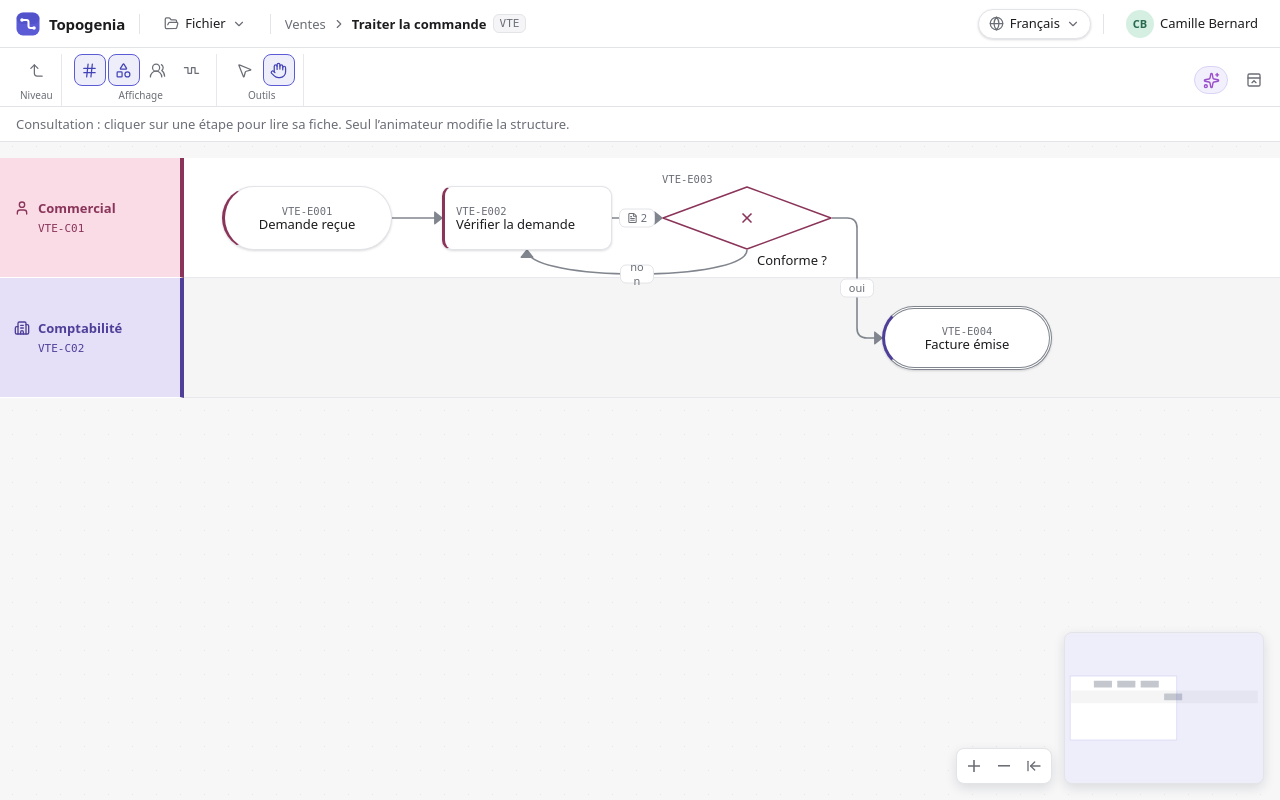
the File menu of the map (B-2.4-52 to B-2.4-58, ADR 058) › « Propriétés du projet… » opens the properties of the project, for a reader too (spec 4.1)
This screenshot has width=1280, height=800.
Click the button with test id "header-file". click: (205, 24)
box: [154,8,256,38]
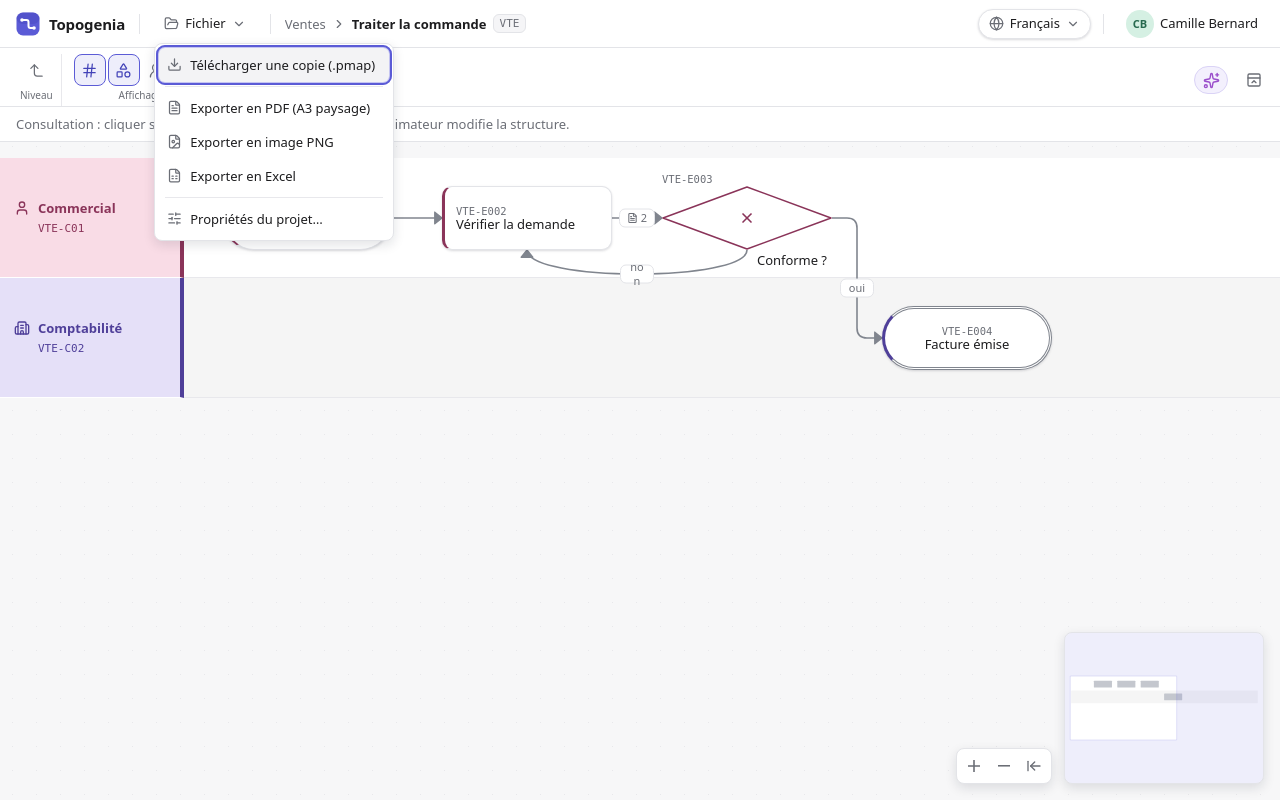
Click the menu item "Propriétés du projet…". click: (274, 218)
box: [159,202,389,236]
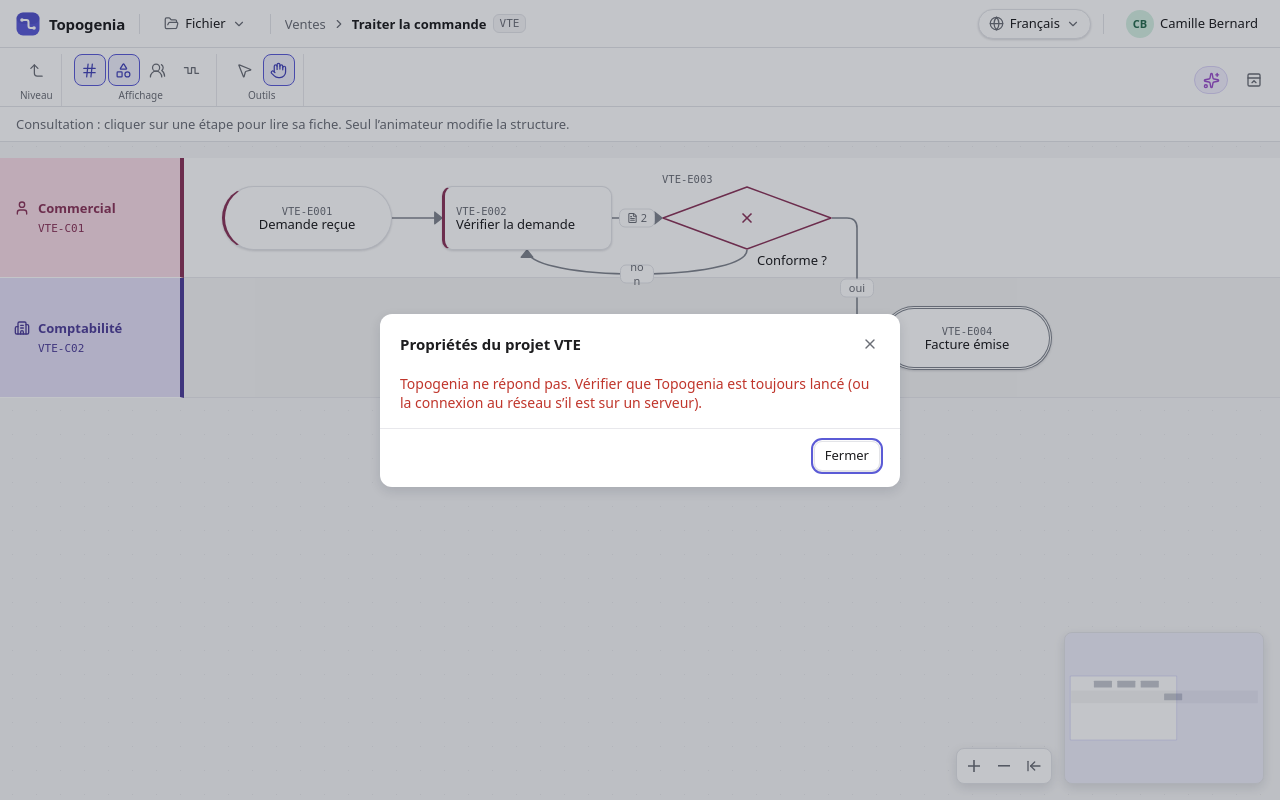
Now the dialog "Propriétés du projet VTE" is shown, box [380,314,900,486]
Now the menu is gone
